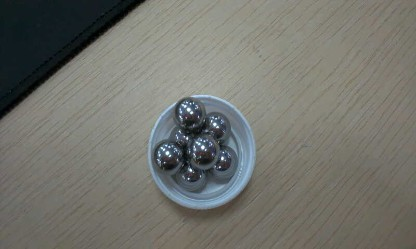ironball: (185, 133, 219, 170), (172, 96, 205, 133), (152, 139, 184, 175), (199, 111, 230, 144), (208, 145, 237, 180), (174, 160, 206, 191), (168, 126, 193, 148)
